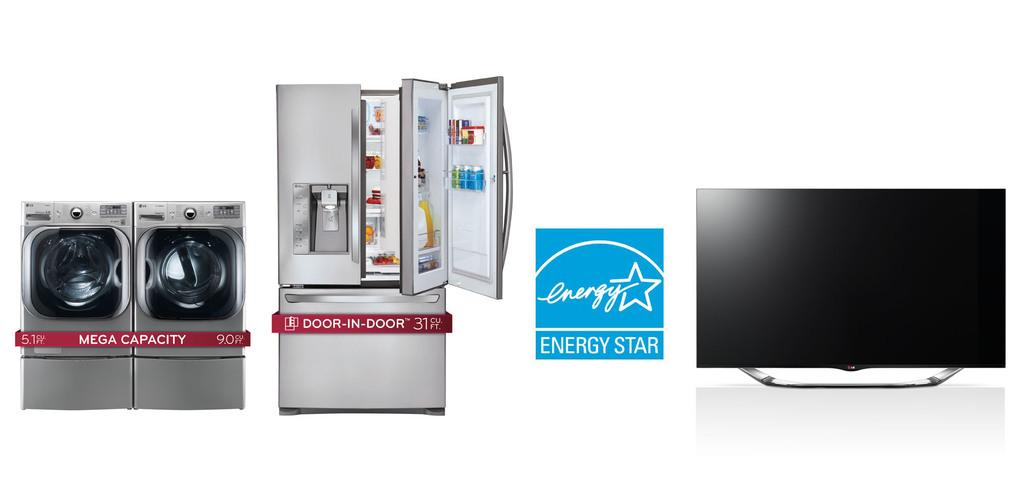handle: (492, 122, 518, 252), (286, 290, 430, 311), (342, 114, 360, 262)
